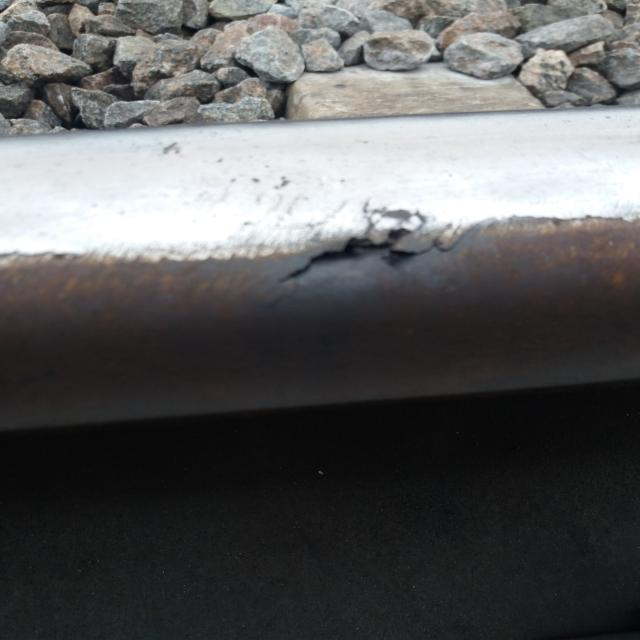broken_rail_medium: (272, 198, 495, 284), (513, 213, 639, 226), (0, 244, 87, 261), (161, 140, 183, 154), (278, 174, 291, 188)
